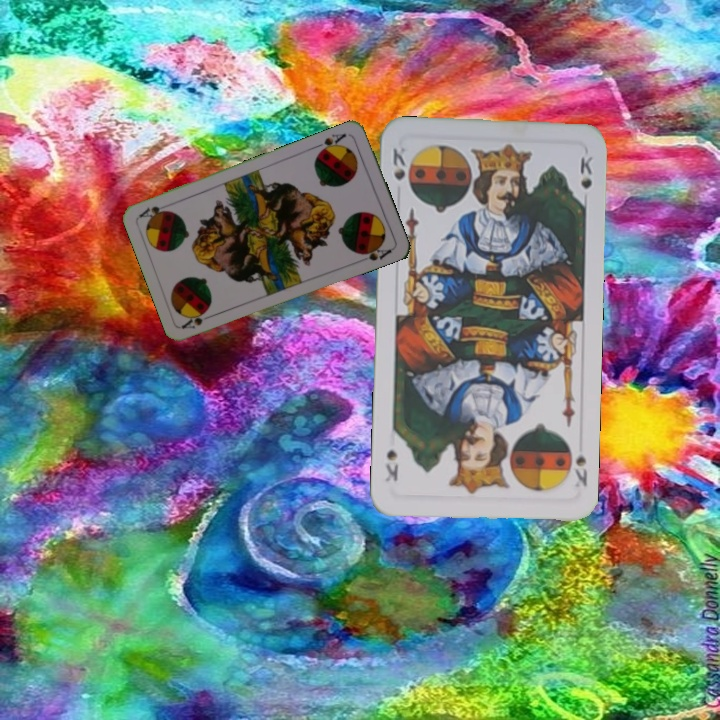SA: (312, 129, 349, 156), (178, 308, 218, 331)
SK: (569, 436, 590, 490), (389, 143, 409, 183)
